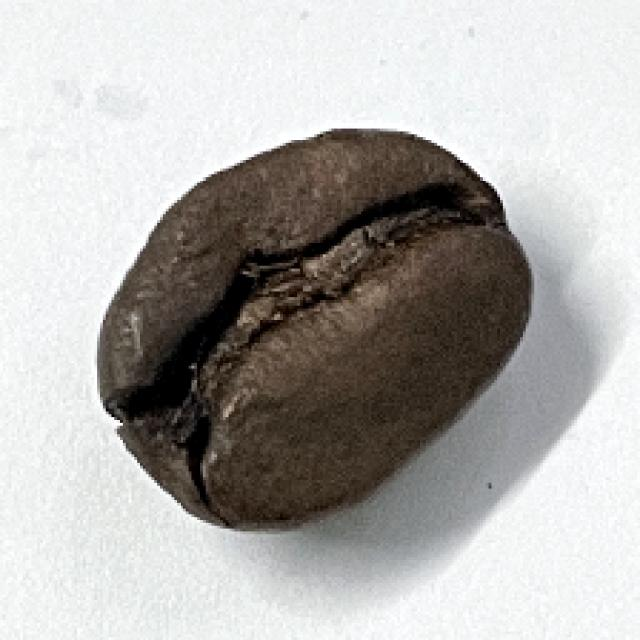bean: (92, 125, 535, 534)
